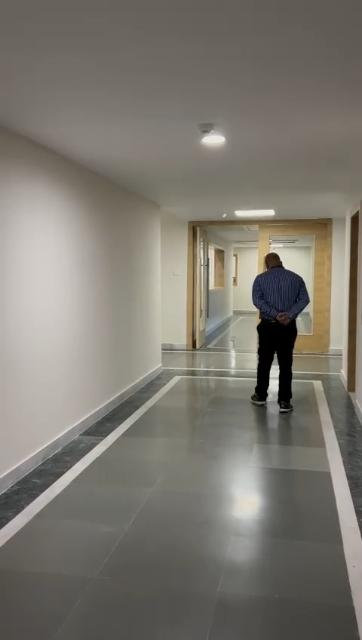floor: (0, 316, 362, 640)
moving-obj: (240, 244, 310, 418)
wall: (0, 129, 188, 478)
